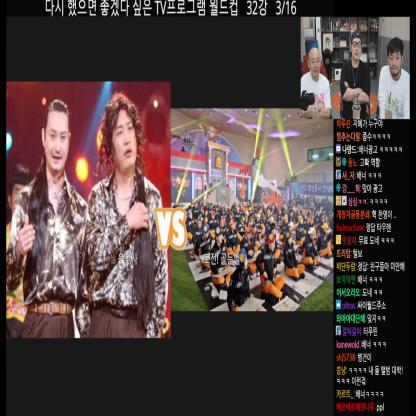streamer: (340, 29, 370, 119), (378, 37, 410, 119), (301, 47, 332, 119)
